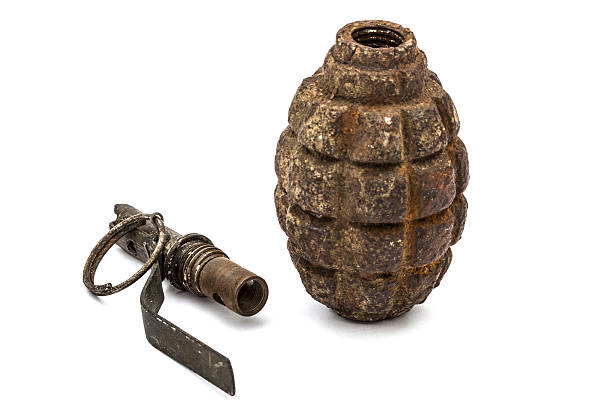e1: (272, 17, 471, 324)
